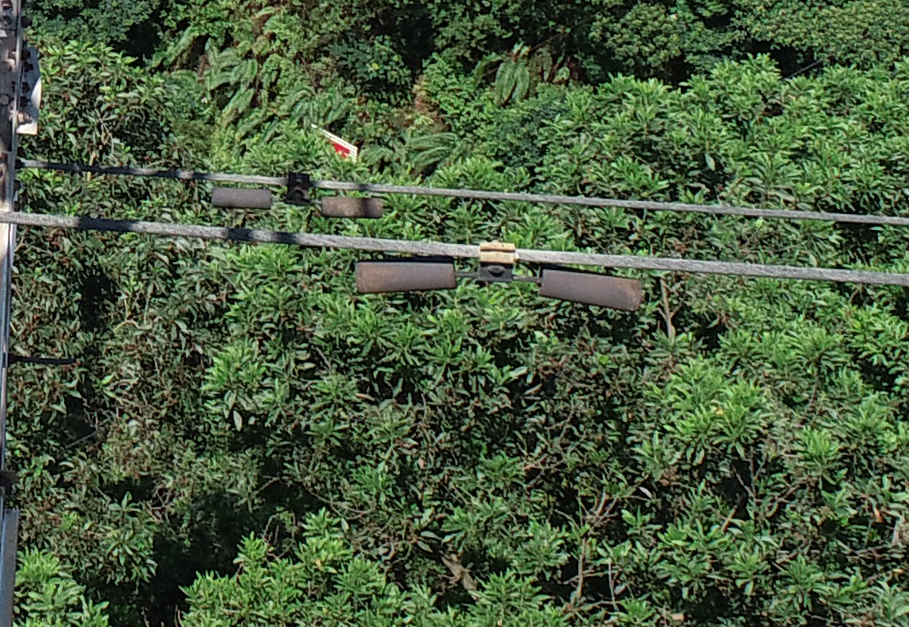damper: (349, 234, 644, 313), (208, 167, 386, 220)
